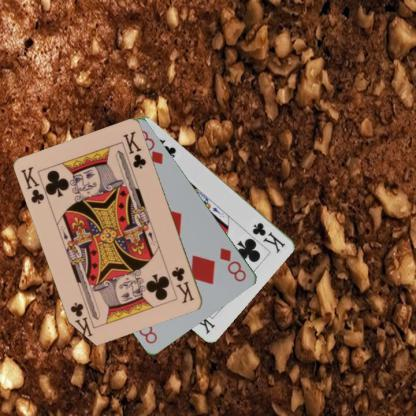8d: (217, 245, 248, 283)
Kc: (250, 219, 287, 254), (18, 164, 46, 206), (170, 264, 196, 305)
